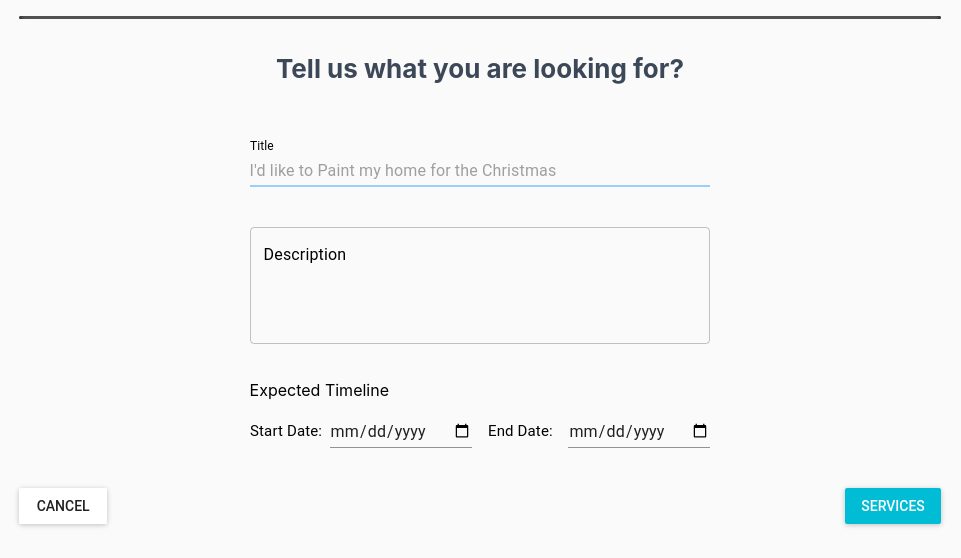
Test: Input Form › Check Title and Desc holds the value after going to next page and coming back
The image size is (961, 558).
Type "Test Title" into the field with id "titleTxtBox" at {"x": 481, "y": 171}, box left=250, top=155, right=711, bottom=187
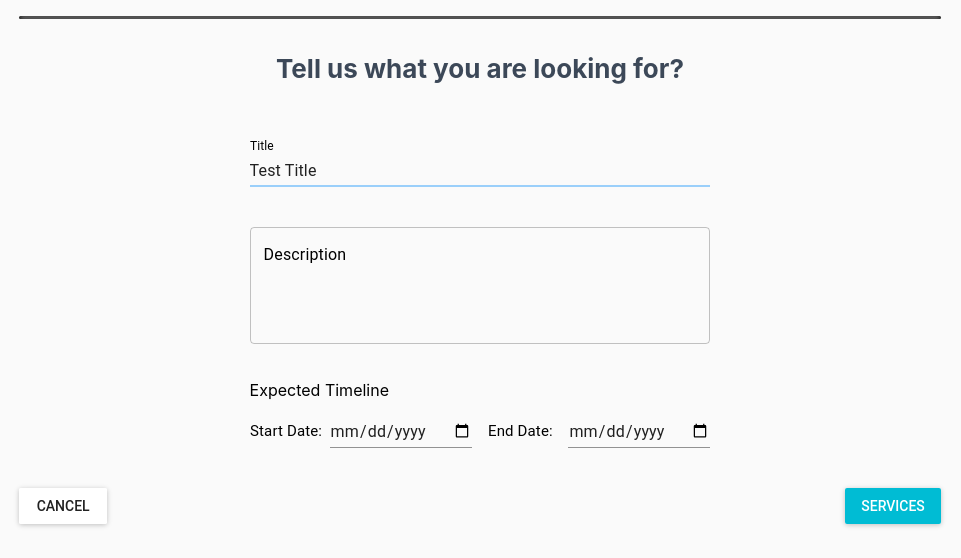
Type "Test Description" into the text box with id "descTxtBox" at {"x": 481, "y": 285}, box left=264, top=245, right=697, bottom=325
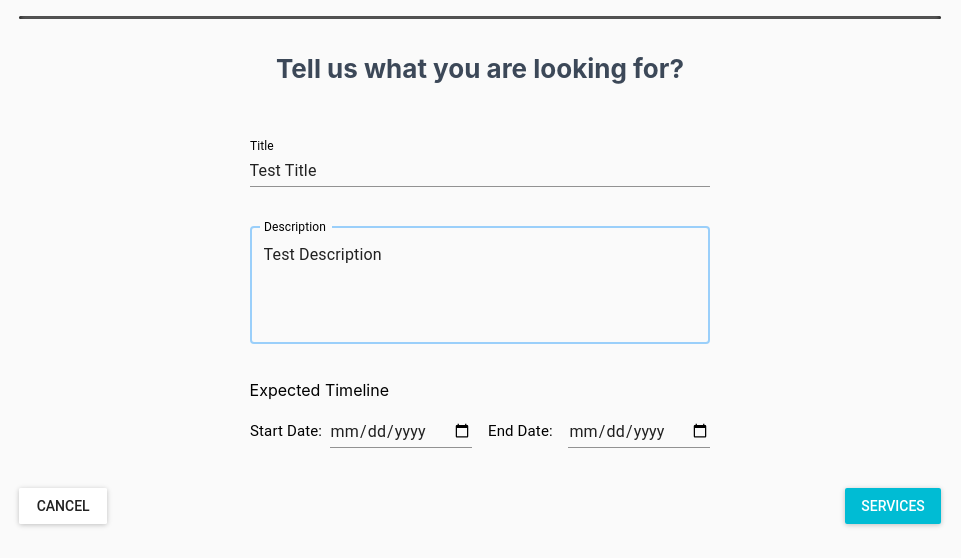
Click the button with id "servicesButton" at {"x": 893, "y": 506}, box left=845, top=488, right=941, bottom=524
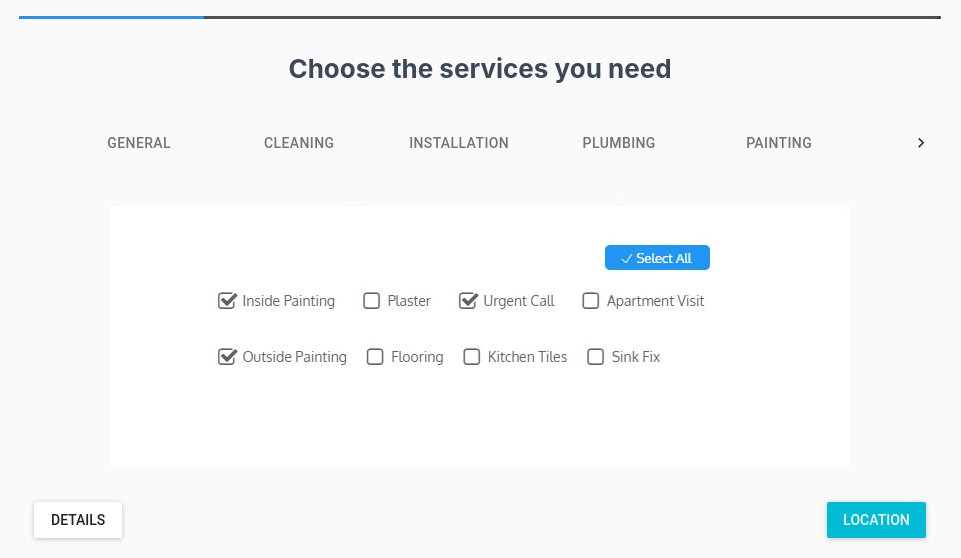
Click the button with id "backDetailsButton" at {"x": 78, "y": 520}, box left=34, top=502, right=122, bottom=538
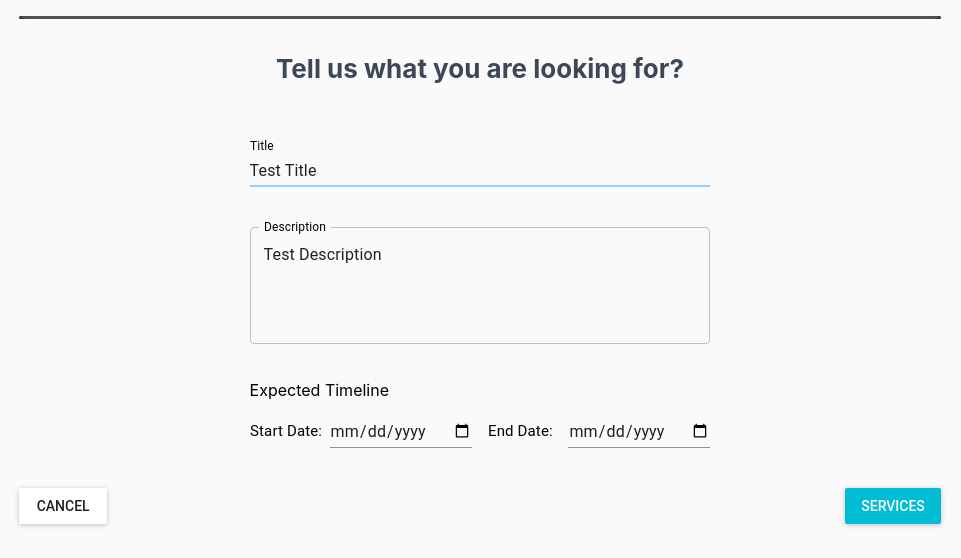
Result: the field with id "titleTxtBox" holds "Test Title" at left=250, top=155, right=711, bottom=187
Result: the text box with id "descTxtBox" holds "Test Description" at left=264, top=245, right=697, bottom=325
